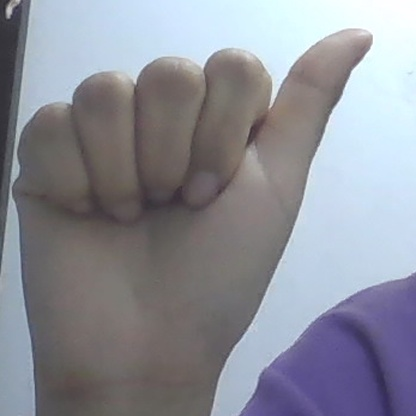A: (13, 30, 372, 378)
